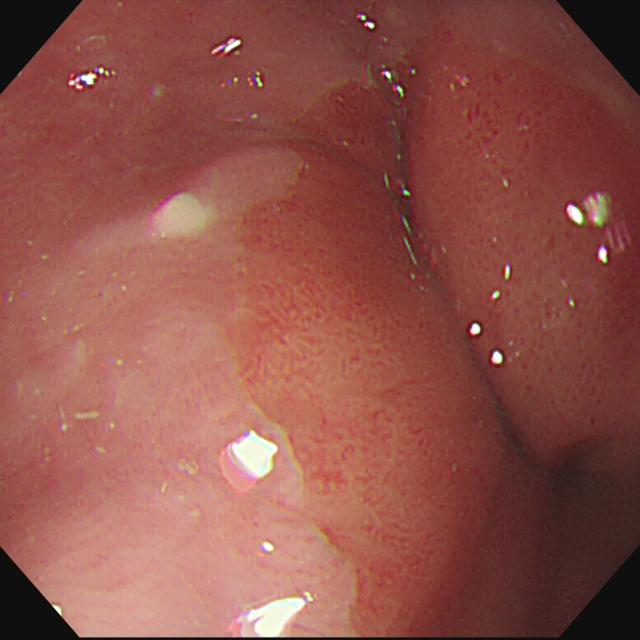A: (298, 275, 433, 496), (466, 69, 547, 258)
J: (155, 190, 207, 241)
U: (229, 592, 315, 640), (219, 430, 280, 493), (565, 194, 614, 230), (68, 65, 117, 94), (599, 224, 632, 266), (209, 36, 244, 59), (380, 69, 405, 100), (384, 173, 413, 196), (357, 13, 378, 32), (247, 71, 264, 89), (468, 322, 483, 339), (492, 351, 505, 367)
